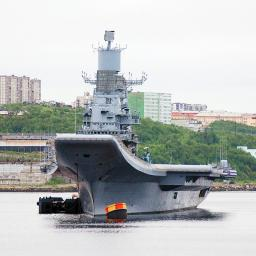Portanaves: (41, 28, 227, 220)
